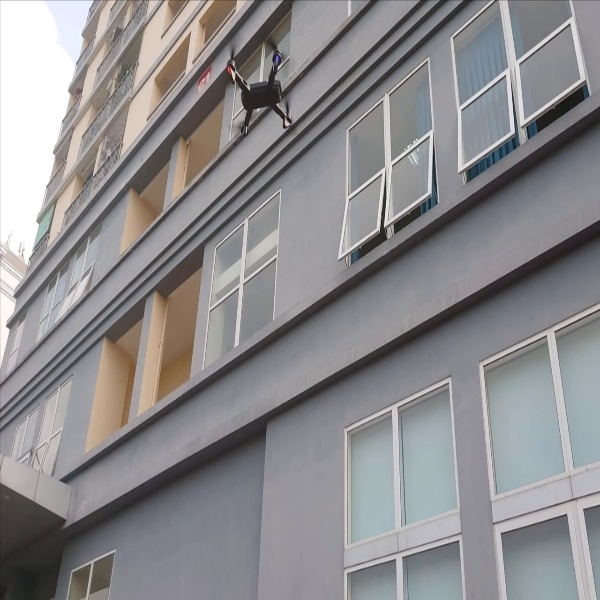drone: (219, 39, 302, 137)
